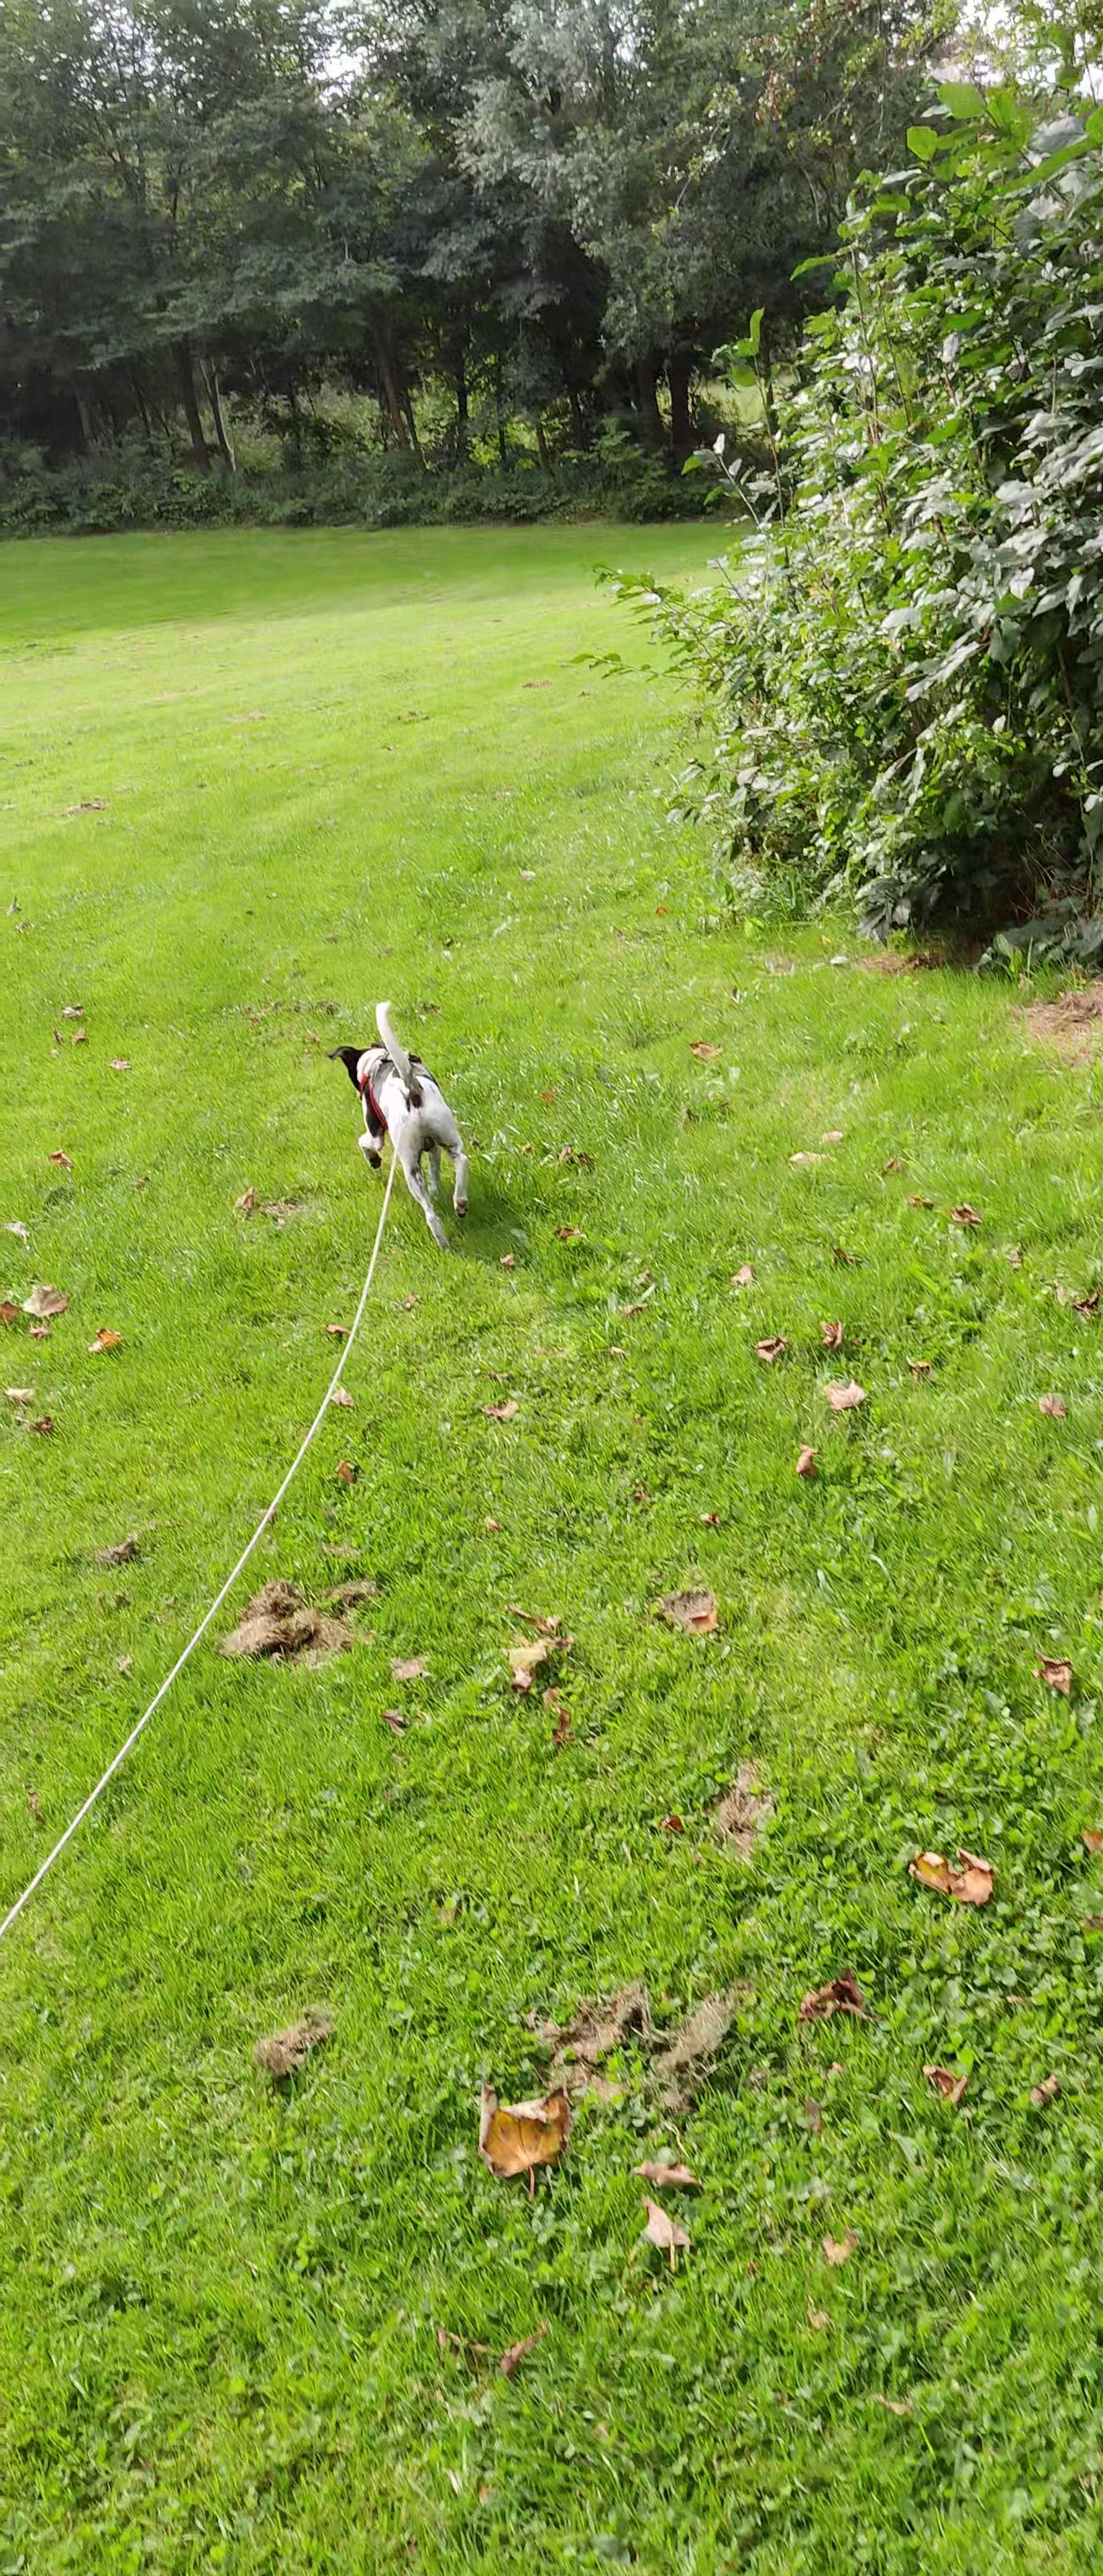Dog: (306, 981, 482, 1255)
